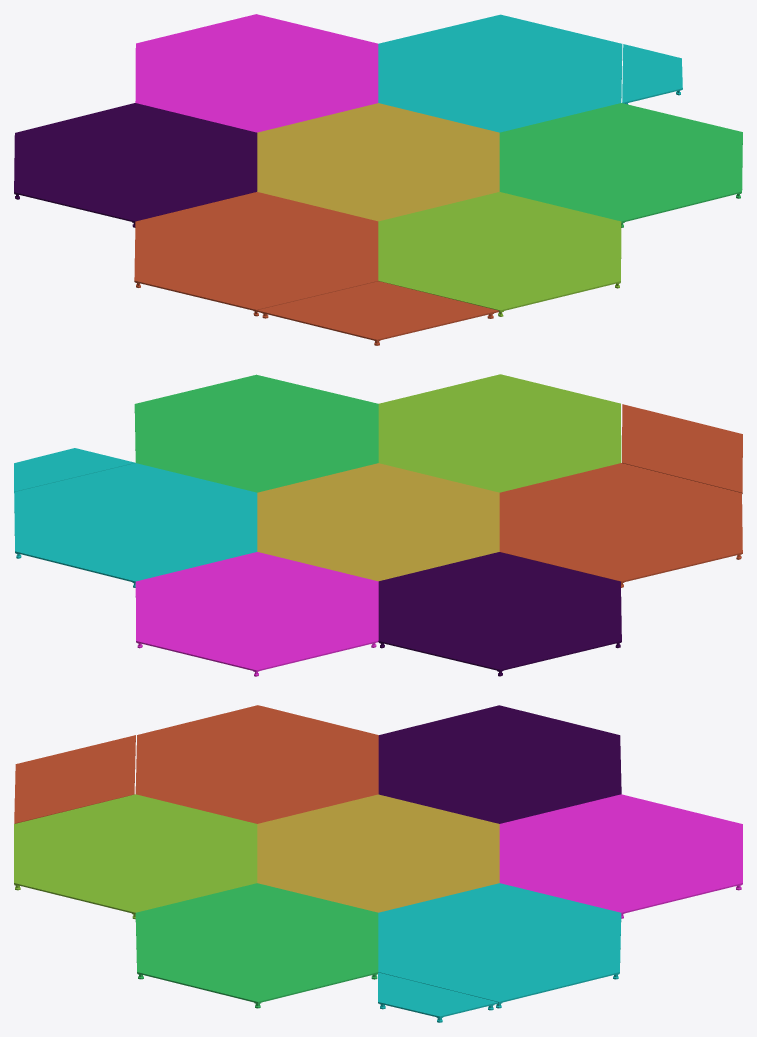
The model's file is MDL_Groundfloor_Story_Hexagonals_01.fbx.
3 renders of one model, top to bottom at view 1: azimuth 30°, elevation 25°; view 2: azimuth 150°, elevation 25°; view 3: azimuth 270°, elevation 25°, orthographic.
Parts seen in each view (by area): view 1: MDL_S_05, MDL_S_06, MDL_S_01, MDL_S_04, MDL_S_02, MDL_S_03, MDL_S_07, MDL_S_06_Ex, MDL_S_03_Ex; view 2: MDL_S_02, MDL_S_01, MDL_S_06, MDL_S_03, MDL_S_05, MDL_S_04, MDL_S_07, MDL_S_06_Ex, MDL_S_03_Ex; view 3: MDL_S_04, MDL_S_03, MDL_S_05, MDL_S_02, MDL_S_06, MDL_S_01, MDL_S_07, MDL_S_06_Ex, MDL_S_03_Ex.
Boxes of the visible parts, x1=… form: MDL_S_05: x1=378, y1=192, x2=621, y2=316; MDL_S_06: x1=134, y1=192, x2=378, y2=316; MDL_S_01: x1=14, y1=103, x2=257, y2=227; MDL_S_04: x1=499, y1=103, x2=742, y2=227; MDL_S_02: x1=135, y1=14, x2=378, y2=132; MDL_S_03: x1=378, y1=14, x2=622, y2=132; MDL_S_07: x1=257, y1=103, x2=499, y2=221; MDL_S_06_Ex: x1=256, y1=281, x2=498, y2=345; MDL_S_03_Ex: x1=622, y1=44, x2=682, y2=104; MDL_S_02: x1=135, y1=552, x2=378, y2=676; MDL_S_01: x1=378, y1=552, x2=621, y2=676; MDL_S_06: x1=499, y1=463, x2=742, y2=587; MDL_S_03: x1=14, y1=463, x2=257, y2=587; MDL_S_05: x1=378, y1=374, x2=621, y2=492; MDL_S_04: x1=134, y1=374, x2=378, y2=492; MDL_S_07: x1=257, y1=463, x2=499, y2=581; MDL_S_06_Ex: x1=622, y1=404, x2=742, y2=493; MDL_S_03_Ex: x1=14, y1=448, x2=134, y2=492; MDL_S_04: x1=135, y1=883, x2=378, y2=1008; MDL_S_03: x1=378, y1=883, x2=621, y2=1008; MDL_S_05: x1=14, y1=794, x2=257, y2=919; MDL_S_02: x1=499, y1=794, x2=742, y2=918; MDL_S_06: x1=135, y1=705, x2=378, y2=823; MDL_S_01: x1=378, y1=705, x2=621, y2=823; MDL_S_07: x1=257, y1=794, x2=499, y2=912; MDL_S_06_Ex: x1=14, y1=735, x2=135, y2=823; MDL_S_03_Ex: x1=378, y1=972, x2=498, y2=1022.
Bounding box in the file's own units: 3006 × 32.45 × 2974.
